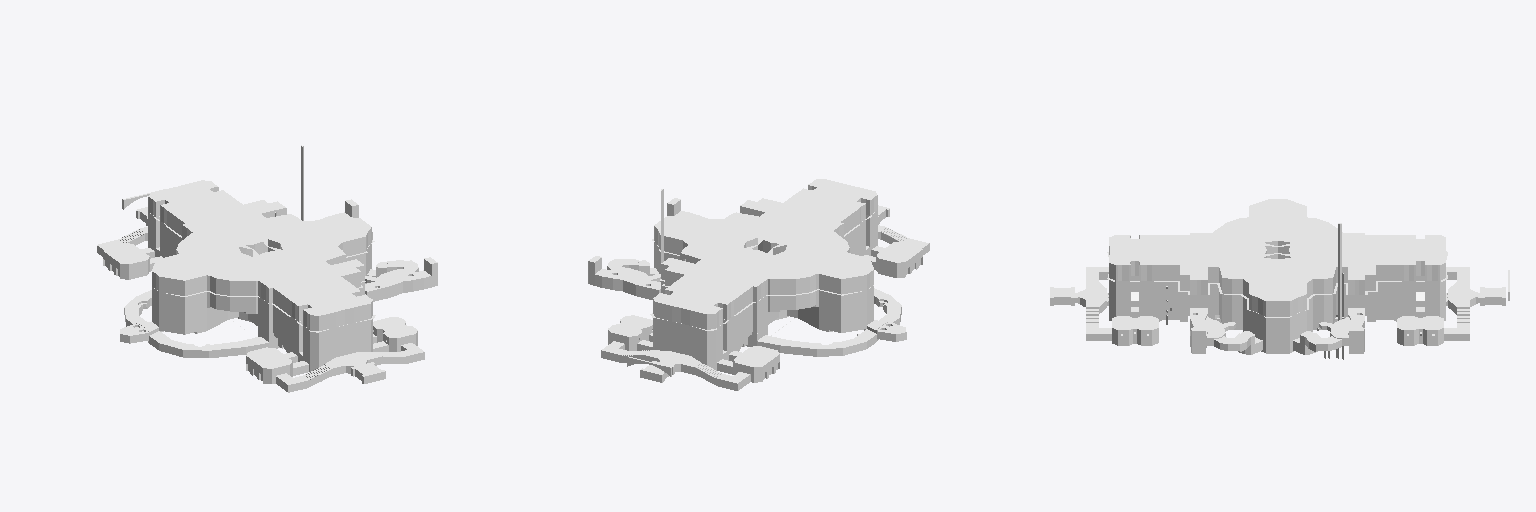
File: MAPF7_DualFortress.obj
3 views of the same model, side by side, from view 1: azimuth 30°, elevation 25°; view 2: azimuth 150°, elevation 25°; view 3: azimuth 270°, elevation 25° (orthographic).
Visible parts, largest first — view 1: MAPF7; view 2: MAPF7; view 3: MAPF7.
Boxes of the visible parts, box(x1,y1,x2,y2) form: MAPF7: box(97, 145, 437, 392); MAPF7: box(588, 179, 929, 390); MAPF7: box(1050, 199, 1509, 359).
Size of the model in its own units: 9536 by 4608 by 13824.